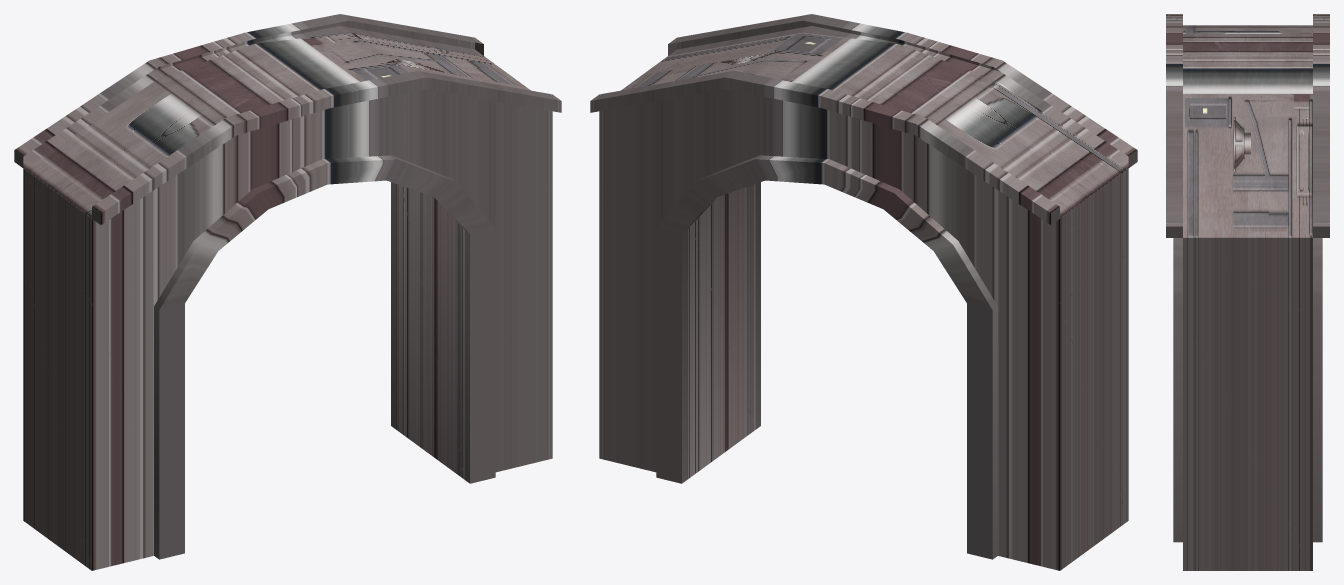
File: cor1_prop_arch.fbx
3 renders of one model, left to right at view 1: azimuth 30°, elevation 25°; view 2: azimuth 150°, elevation 25°; view 3: azimuth 270°, elevation 25°, orthographic. The views are drawn at different scales.
Visible parts, largest first — view 1: arch, polymsh_extracted, polymsh_extracted316; view 2: arch, polymsh_extracted, polymsh_extracted316; view 3: arch, polymsh_extracted316, polymsh_extracted.
Boxes of the visible parts, x1=… form: arch: x1=23, y1=32, x2=552, y2=570; polymsh_extracted: x1=154, y1=155, x2=495, y2=559; polymsh_extracted316: x1=14, y1=14, x2=561, y2=224; arch: x1=599, y1=32, x2=1128, y2=570; polymsh_extracted: x1=656, y1=155, x2=997, y2=559; polymsh_extracted316: x1=590, y1=14, x2=1137, y2=224; arch: x1=1183, y1=25, x2=1312, y2=570; polymsh_extracted316: x1=1166, y1=14, x2=1329, y2=237; polymsh_extracted: x1=1173, y1=238, x2=1322, y2=542.
Bounding box in the file's own units: 36.96 × 32.6 × 12.03.
